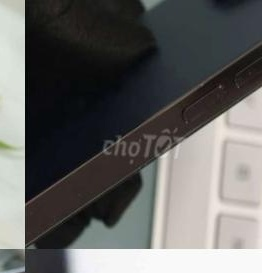scratch: (182, 66, 212, 96)
